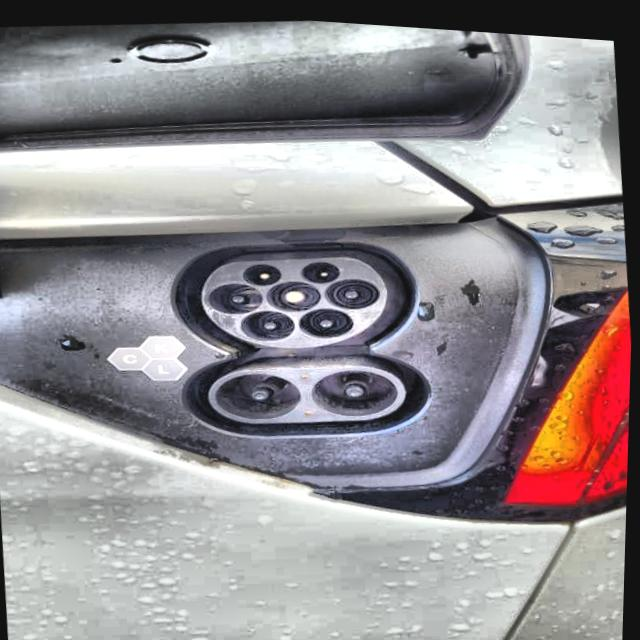inlet: (203, 252, 389, 343)
inlet-above-left: (244, 259, 282, 282)
inlet-above-right: (302, 256, 340, 278)
inlet-below-left: (243, 306, 297, 337)
inlet-below-right: (300, 303, 355, 334)
inlet-center: (268, 277, 322, 307)
inlet-center-left: (210, 280, 264, 310)
inlet-center-right: (326, 273, 381, 304)
